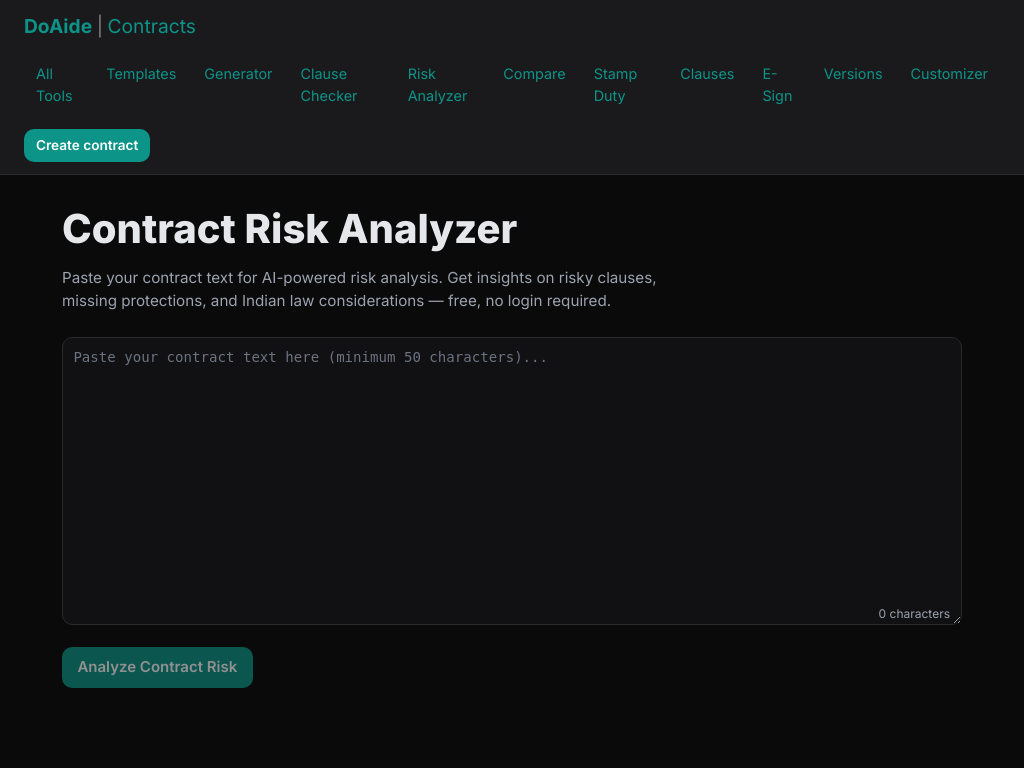
Scenario: RiskAnalyzerPage › shows error for text too short
Type "Short text" into the text box named "Contract text to analyze".
click(512, 481); type("Short text")  # box [62,337,962,625]
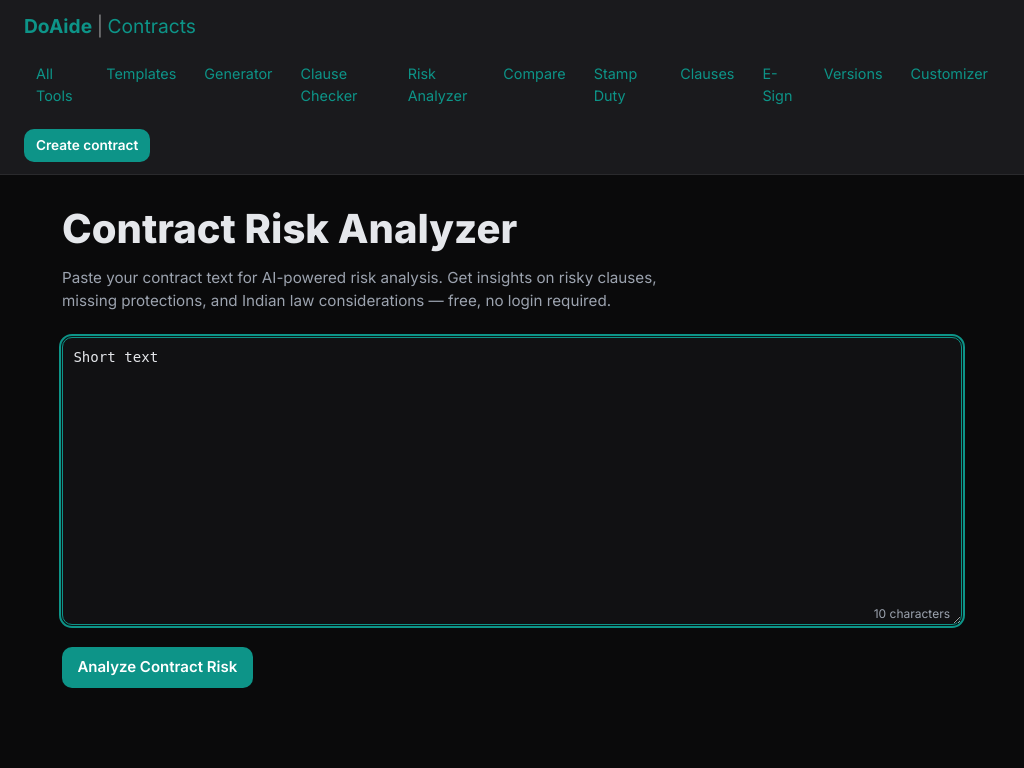
Click the button "Analyze Contract Risk".
click(157, 668)  # box [62,647,253,688]
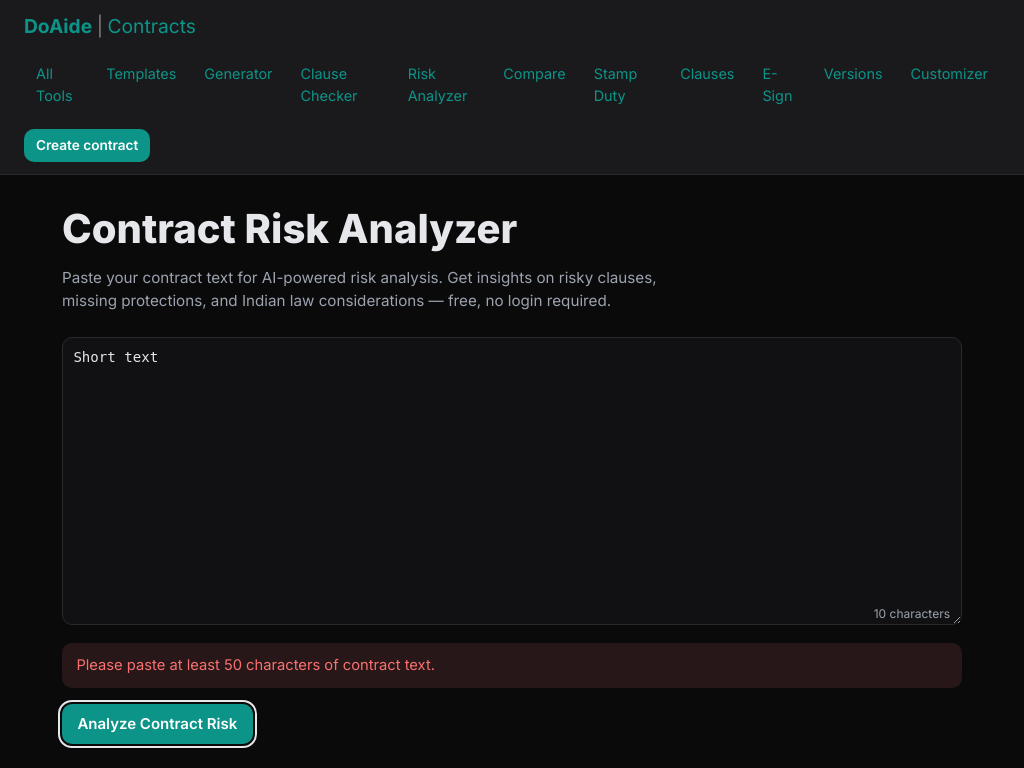
Check: the text "Please paste at least 50 characters of contract text." is shown, box [62,643,962,688]
